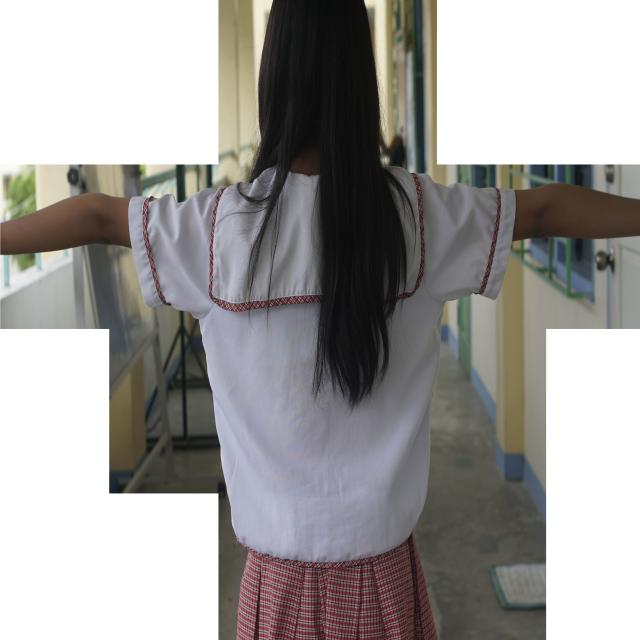pologirl: (128, 168, 516, 562)
